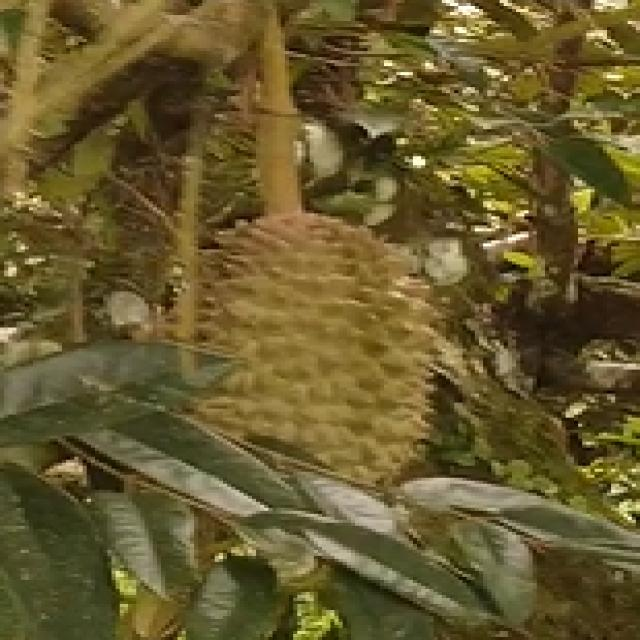mature: (199, 214, 433, 484)
